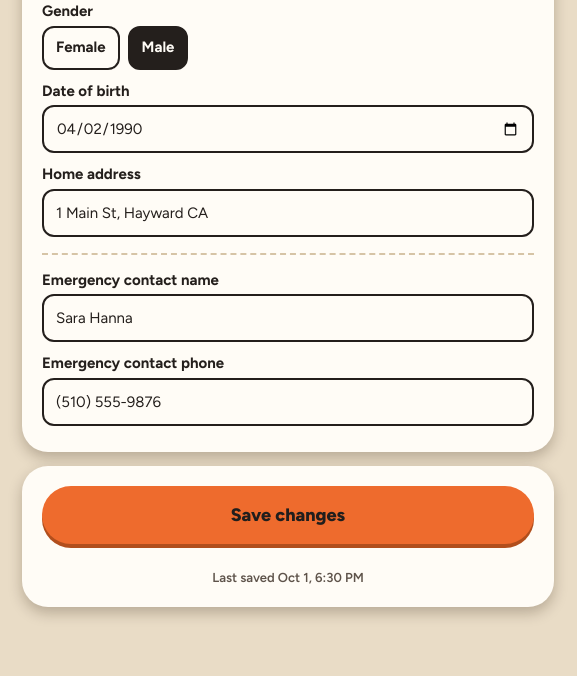
servant registration form › asks for a team or Other for each chosen session
(page scrolled)
What coordinates should you click on to do the following:
click the button "Save changes"
I would click on:
 (288, 515)
Its box is [42, 486, 534, 544].
(page scrolled)
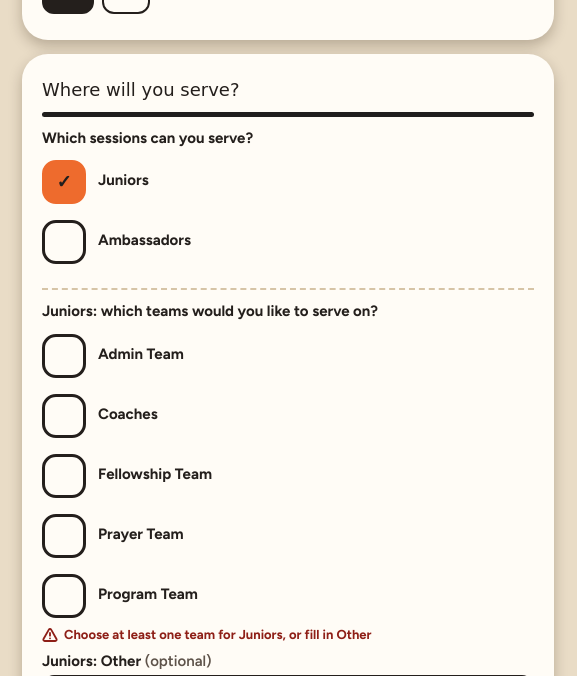
Expected: the text "Choose at least one team for Juniors, or fill in Other" is shown, [64, 626, 372, 644]
